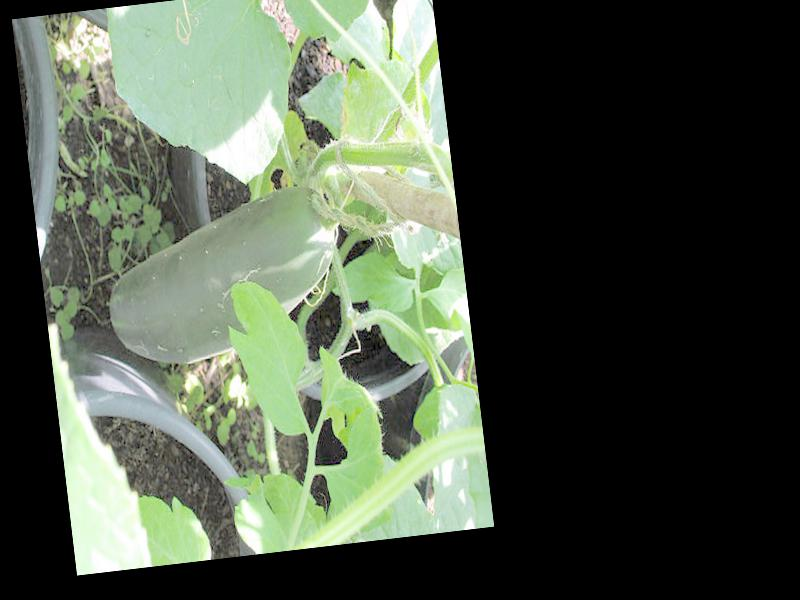Cucumber: (97, 181, 349, 370)
